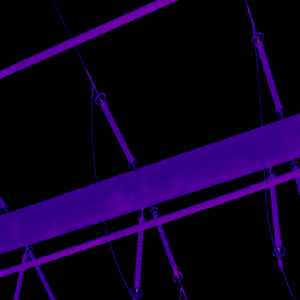insulator: (101, 96, 135, 164), (150, 208, 179, 280), (255, 34, 282, 111), (266, 172, 282, 255), (29, 250, 55, 300), (131, 214, 145, 290), (12, 251, 25, 298)
